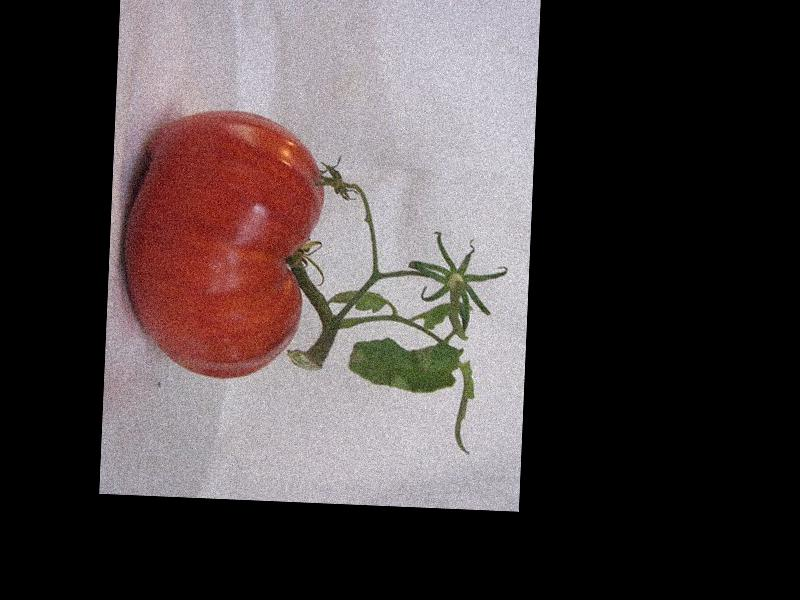Tomato: (117, 105, 326, 383)
